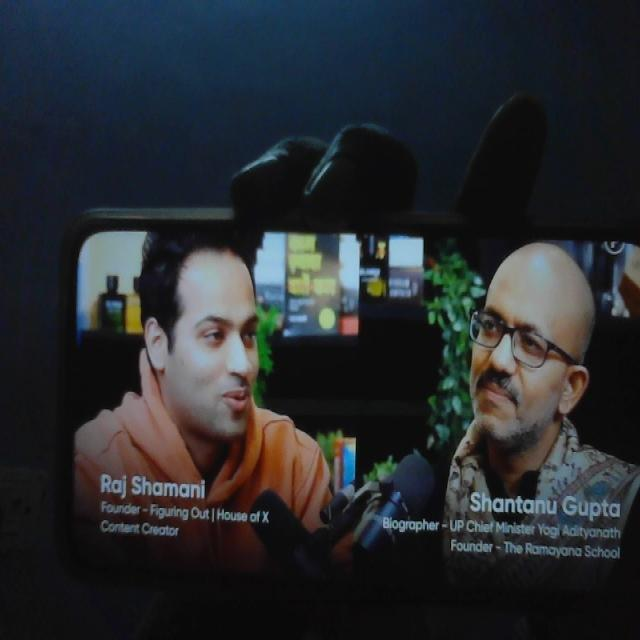fake: (146, 205, 274, 447)
